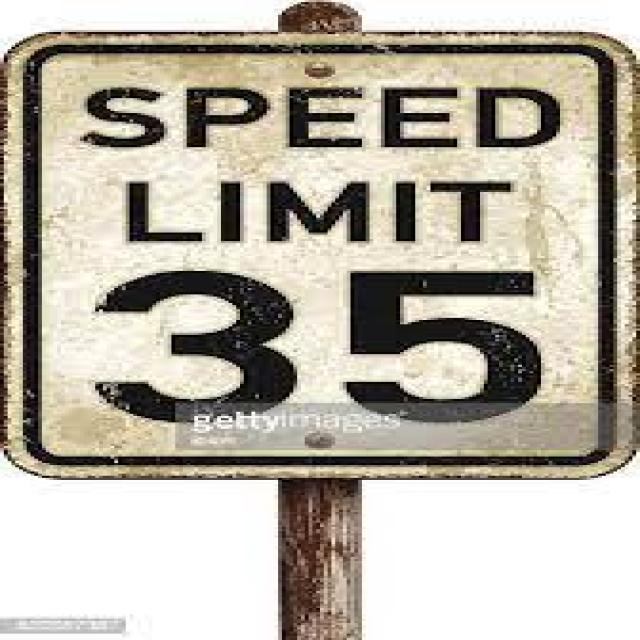speedLimit35: (11, 44, 628, 479)
